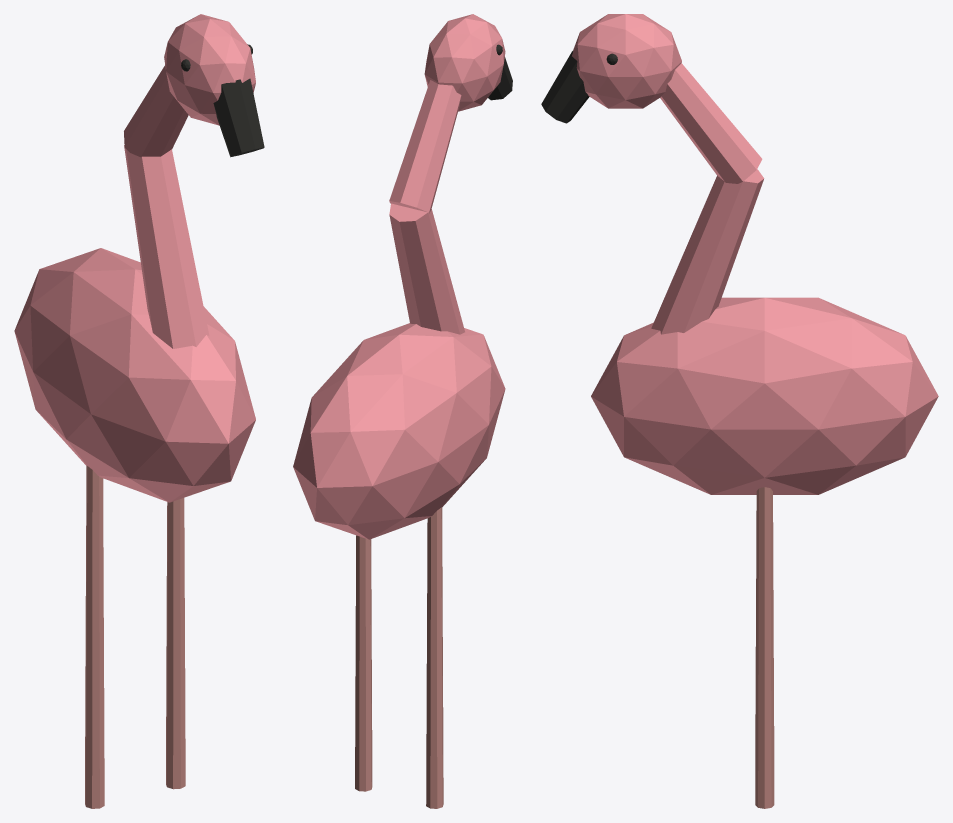
The model's file is zoo-flamingo.glb.
3 renders of one model, left to right at view 1: azimuth 30°, elevation 25°; view 2: azimuth 150°, elevation 25°; view 3: azimuth 270°, elevation 25°, orthographic. The views are drawn at different scales.
Parts seen in each view (by area): view 1: Body, Lower neck, Head.003, Thin leg, Thin leg.001, Upper neck, Bill; view 2: Body, Lower neck, Head.003, Upper neck, Thin leg, Thin leg.001, Bill; view 3: Body, Lower neck, Head.003, Thin leg.001, Upper neck, Bill.
Boxes of the visible parts, bbox=[...] form: Body: bbox=[14, 248, 255, 502]; Lower neck: bbox=[124, 145, 209, 348]; Head.003: bbox=[164, 14, 255, 125]; Thin leg: bbox=[85, 465, 104, 808]; Thin leg.001: bbox=[166, 498, 185, 789]; Upper neck: bbox=[124, 65, 188, 157]; Bill: bbox=[213, 78, 264, 157]; Body: bbox=[293, 323, 505, 539]; Lower neck: bbox=[389, 203, 464, 334]; Head.003: bbox=[424, 14, 505, 111]; Upper neck: bbox=[389, 80, 461, 213]; Thin leg: bbox=[426, 507, 443, 808]; Thin leg.001: bbox=[355, 535, 372, 791]; Bill: bbox=[488, 57, 512, 100]; Body: bbox=[591, 297, 938, 494]; Lower neck: bbox=[651, 169, 764, 334]; Head.003: bbox=[572, 14, 681, 108]; Thin leg.001: bbox=[755, 487, 774, 808]; Upper neck: bbox=[660, 63, 762, 183]; Bill: bbox=[541, 50, 589, 123].
Bounding box in the file's own units: 0.3614 × 1.96 × 0.9141.
